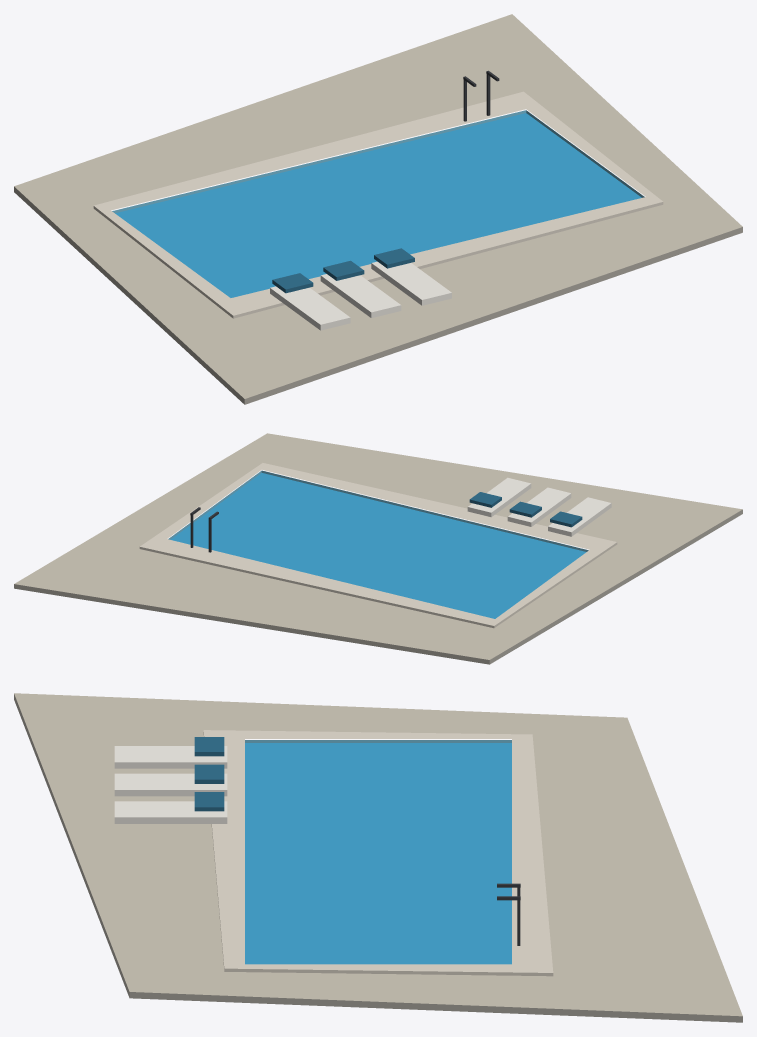
Rendered from piscine_rect.glb.
3 renders of one model, top to bottom at view 1: azimuth 30°, elevation 25°; view 2: azimuth 150°, elevation 25°; view 3: azimuth 270°, elevation 25°, orthographic. The views are drawn at different scales.
Visible parts, largest first — view 1: piscine_rect; view 2: piscine_rect; view 3: piscine_rect.
Boxes of the visible parts, left/top/right/bottom form: piscine_rect: left=14, top=14, right=742, bottom=404; piscine_rect: left=14, top=433, right=742, bottom=664; piscine_rect: left=14, top=693, right=742, bottom=1022.
Size of the model in its own units: 12.9 by 1.09 by 12.3.
1 material, 1 textured.
